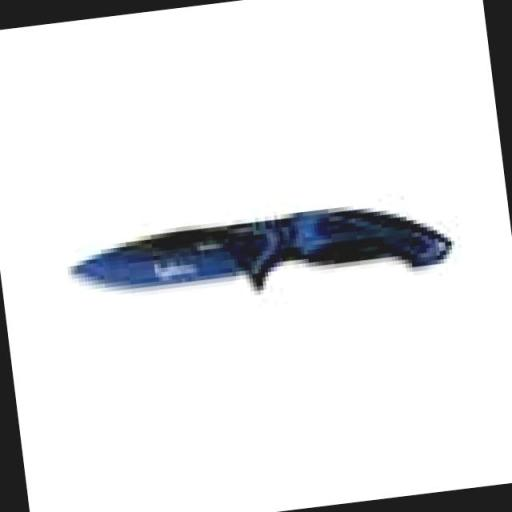knife: (52, 181, 470, 330)
